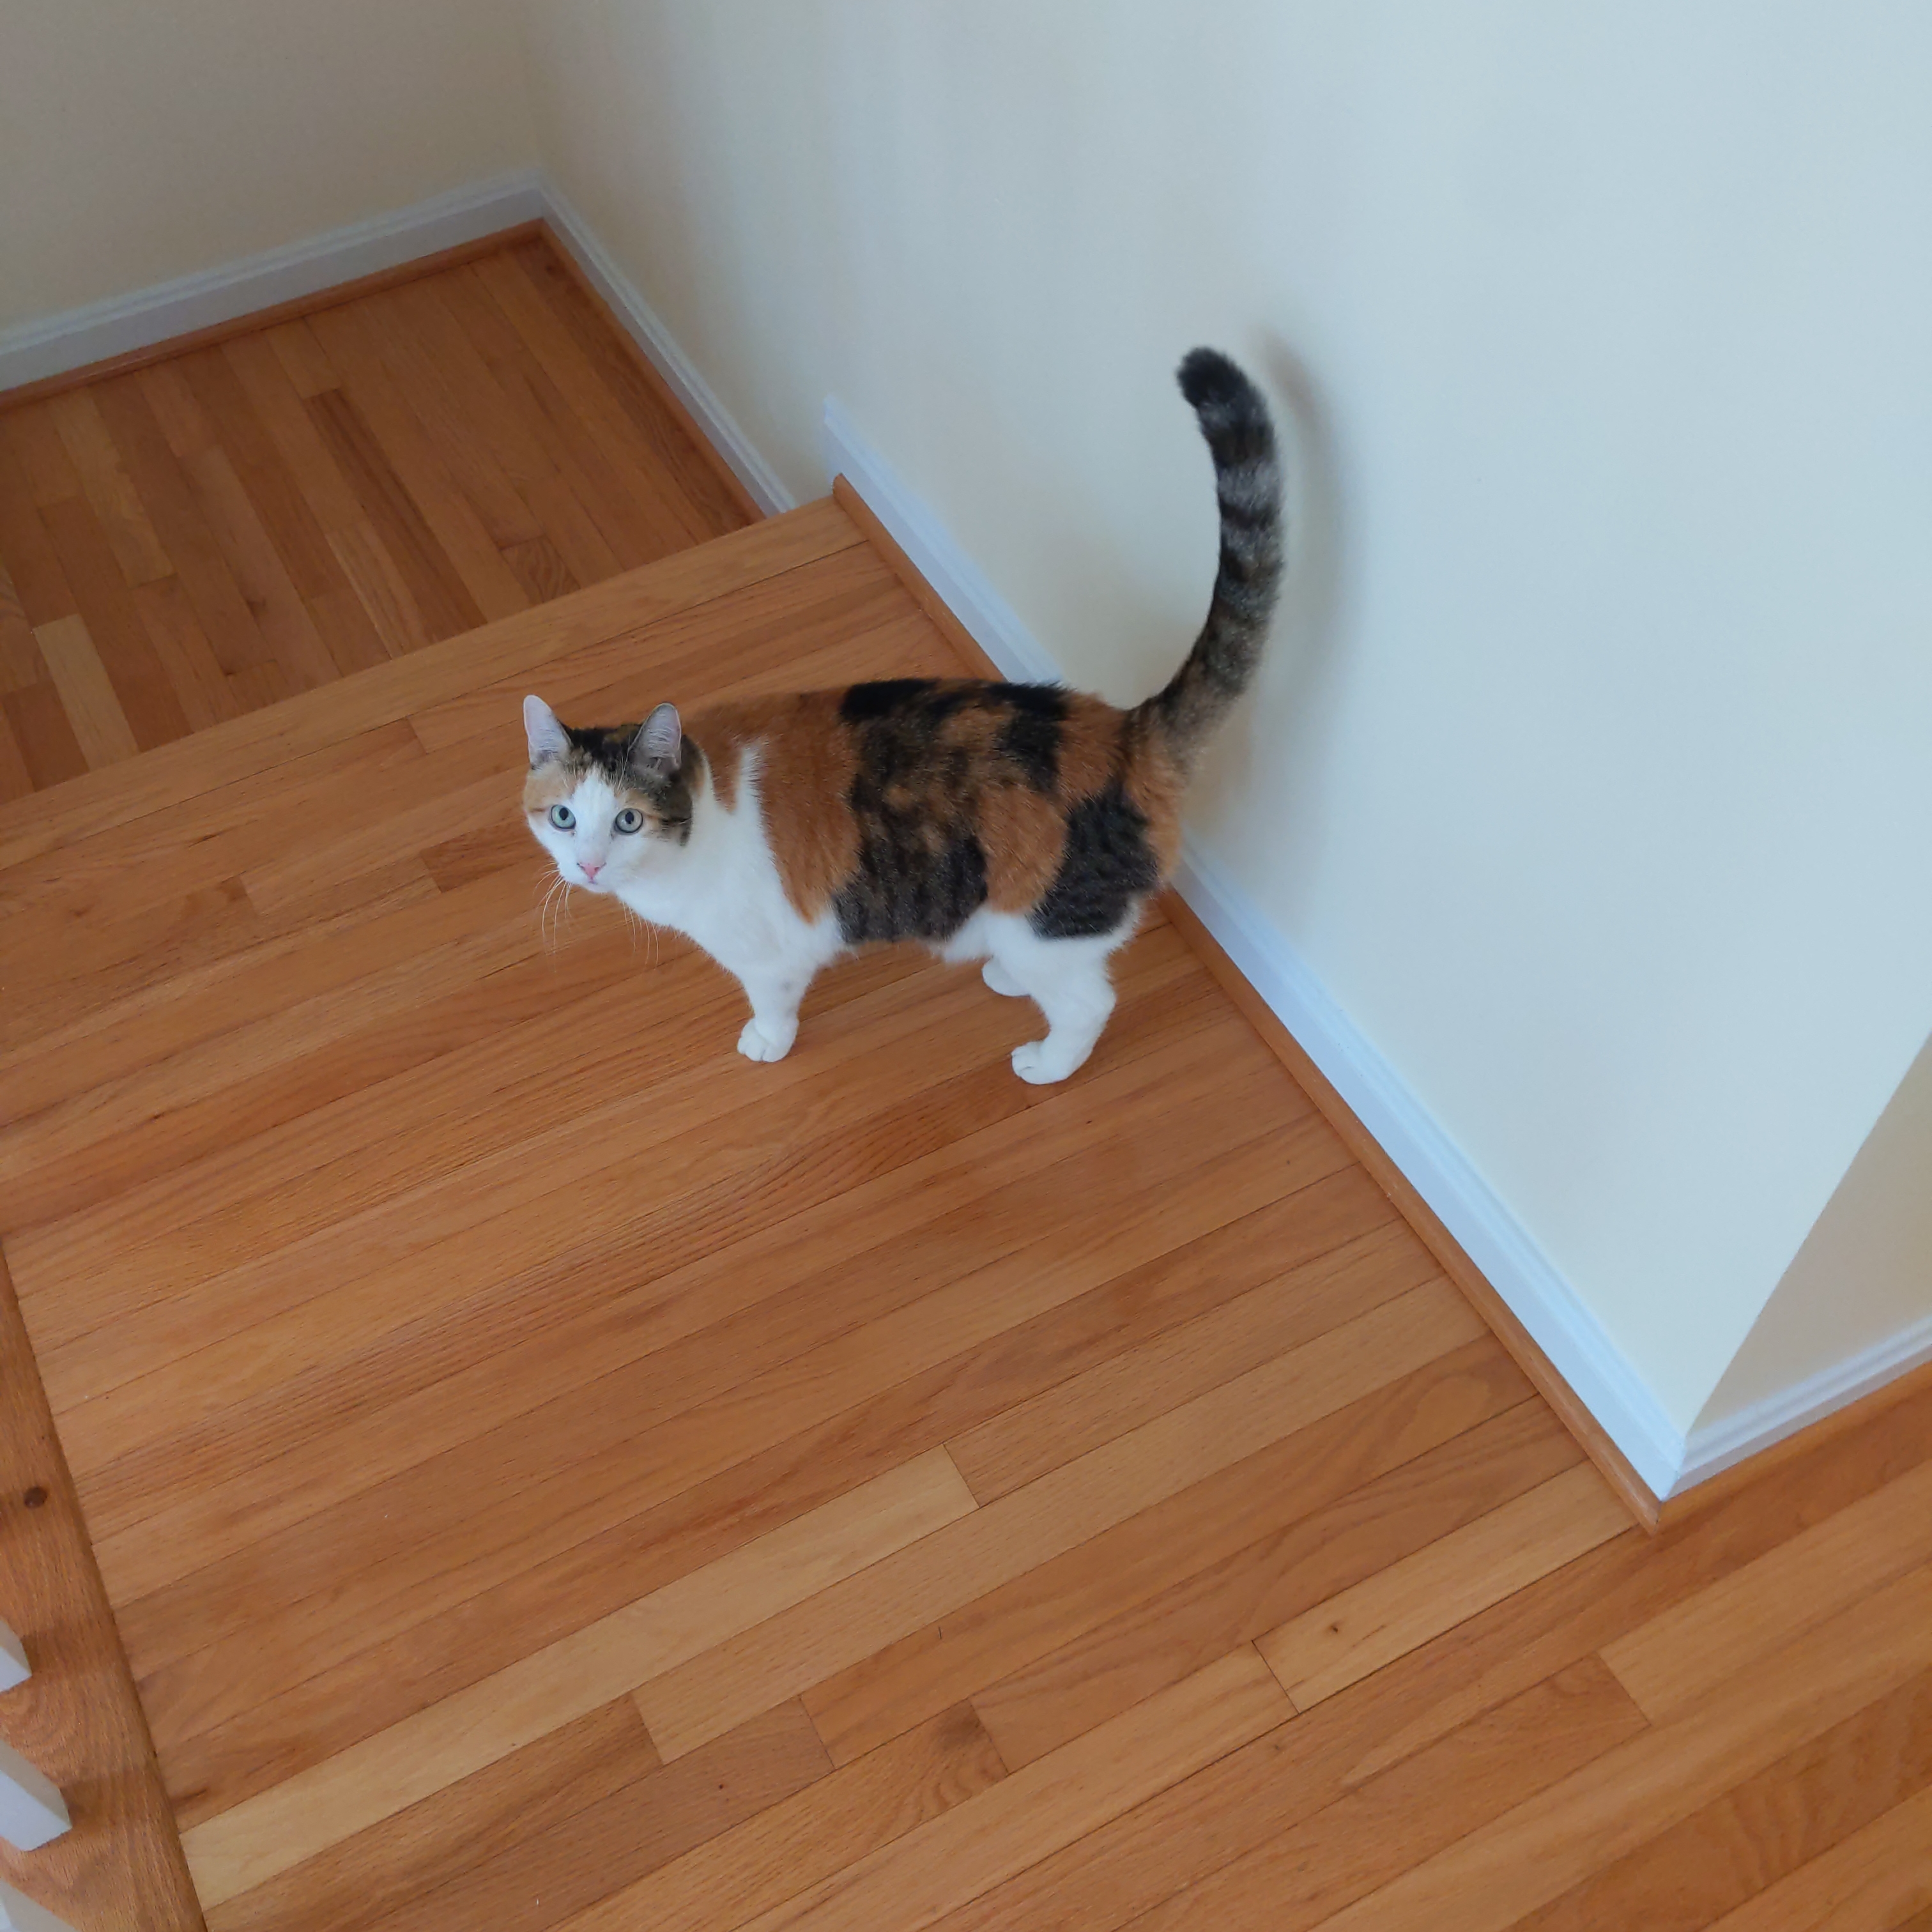Calico: (520, 349, 1290, 1083)
